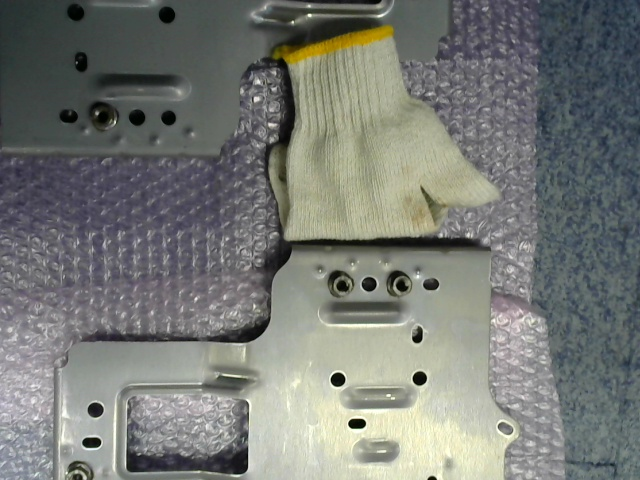dog: (89, 101, 118, 131), (328, 270, 355, 299), (386, 270, 412, 296)
